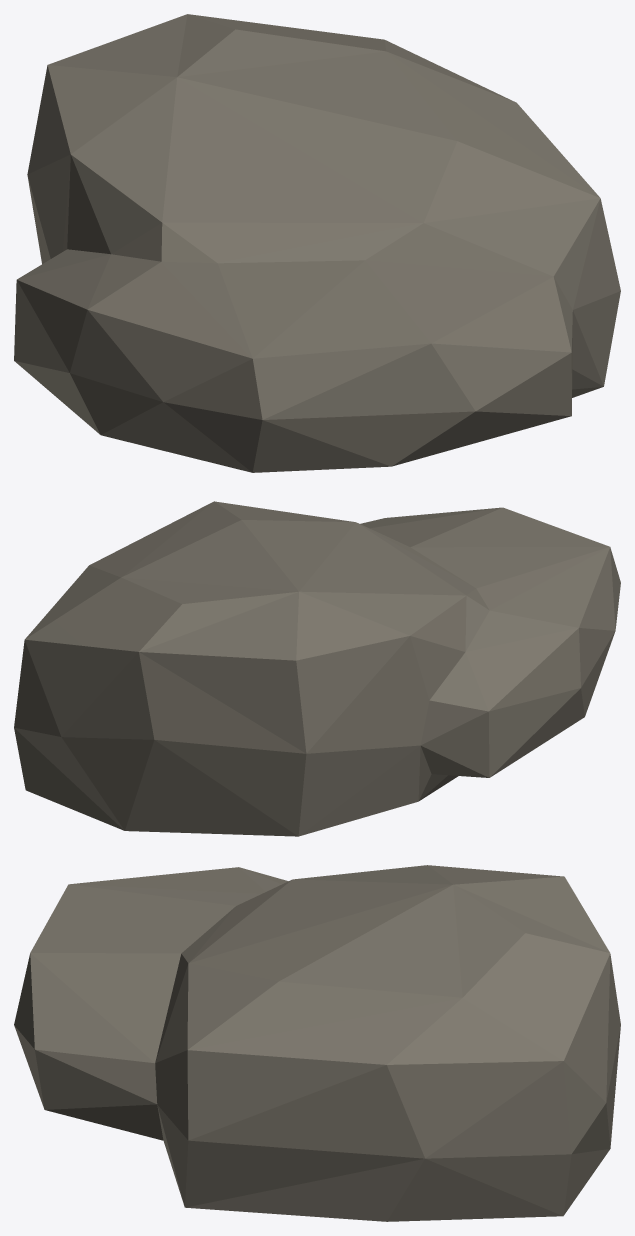
The model's file is rock__rock6_cave_light.glb.
3 renders of one model, top to bottom at view 1: azimuth 30°, elevation 25°; view 2: azimuth 150°, elevation 25°; view 3: azimuth 270°, elevation 25°, orthographic. The views are drawn at different scales.
Visible parts, largest first — view 1: rock6.cave.light; view 2: rock6.cave.light; view 3: rock6.cave.light.
Part boxes in pixels (box(x1,y1,x2,y2)): rock6.cave.light: box(14, 14, 620, 472); rock6.cave.light: box(14, 501, 620, 836); rock6.cave.light: box(14, 865, 620, 1221).
Bounding box in the file's own units: 2.7 × 1.34 × 3.14.
Materials: 1 (1 with a texture image).
